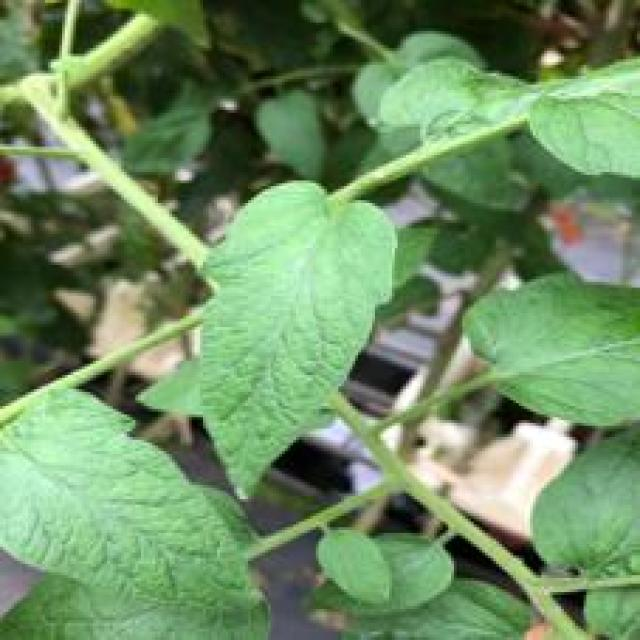Healthy Leaf: (197, 182, 402, 503), (1, 388, 263, 615), (463, 271, 640, 432), (318, 527, 394, 608)
